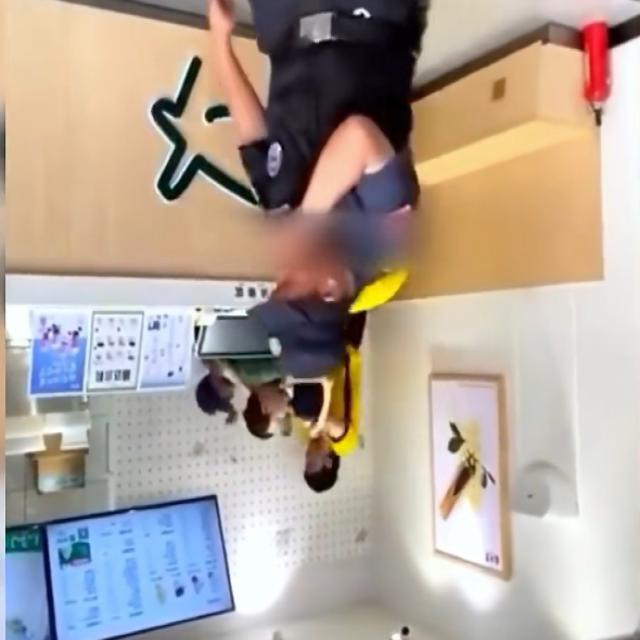fight: (235, 346, 359, 493)
nofight: (208, 0, 414, 355)
